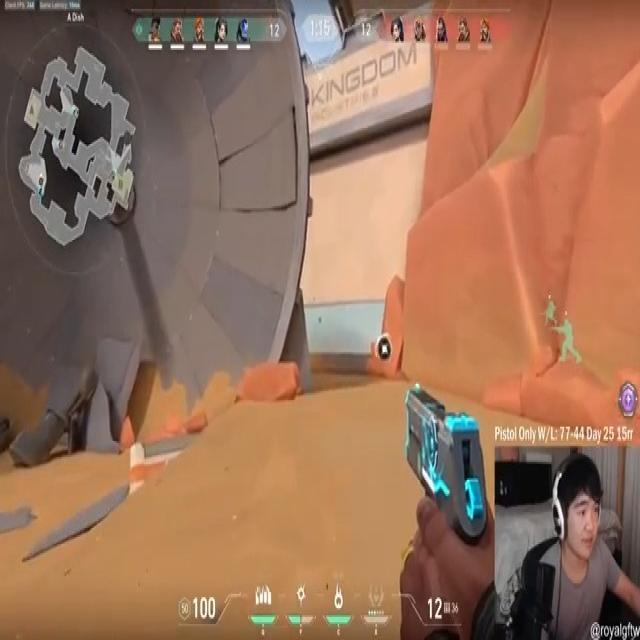ally behind wall: (551, 315, 586, 370), (542, 288, 560, 331)
orb: (376, 335, 392, 362)
